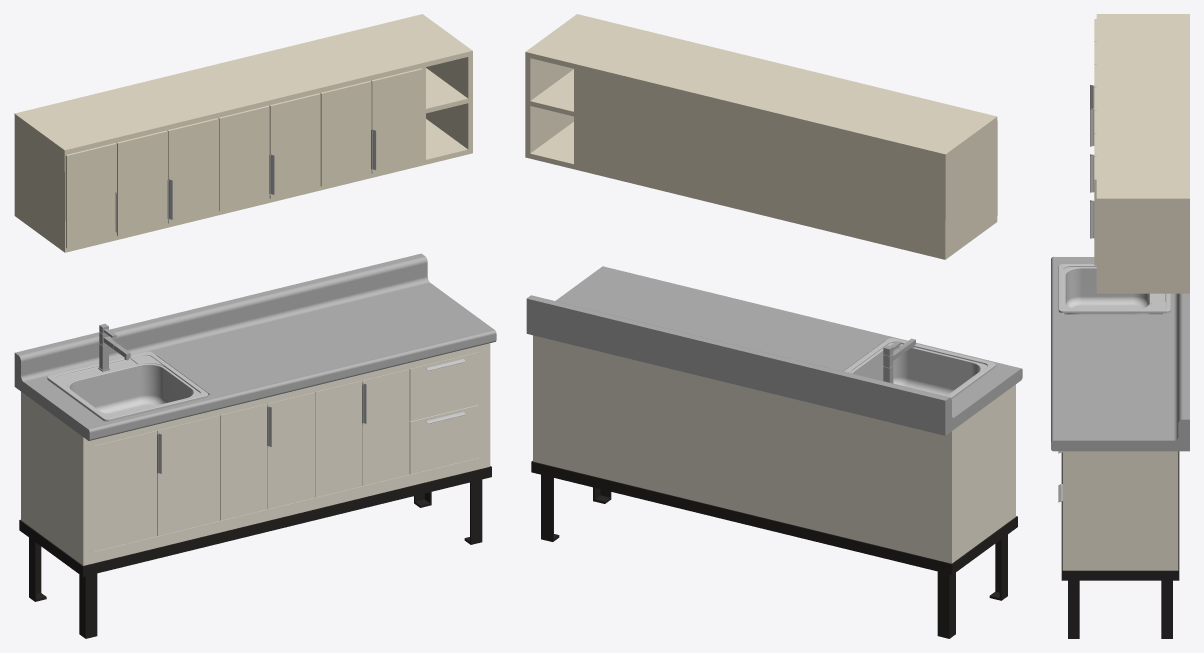
File: kitchen.glb
3 views of the same model, side by side, from view 1: azimuth 30°, elevation 25°; view 2: azimuth 150°, elevation 25°; view 3: azimuth 270°, elevation 25° (orthographic). The views are drawn at different scales.
Visible parts, largest first — view 1: Object_8, Object_4, Object_3, Object_2, Object_6, Object_9, Object_7; view 2: Object_8, Object_4, Object_3, Object_2, Object_6; view 3: Object_8, Object_3, Object_4, Object_6, Object_2, Object_9.
Part boxes in pixels (left/top/right/bottom): Object_8: left=14, top=14, right=472, bottom=379; Object_4: left=21, top=343, right=490, bottom=565; Object_3: left=14, top=253, right=496, bottom=440; Object_2: left=19, top=466, right=491, bottom=638; Object_6: left=47, top=351, right=208, bottom=421; Object_9: left=115, top=129, right=465, bottom=474; Object_7: left=98, top=323, right=130, bottom=371; Object_8: left=525, top=14, right=997, bottom=259; Object_4: left=533, top=335, right=1015, bottom=563; Object_3: left=526, top=266, right=1022, bottom=435; Object_2: left=531, top=461, right=1017, bottom=638; Object_6: left=844, top=338, right=995, bottom=398; Object_8: left=1094, top=14, right=1189, bottom=293; Object_3: left=1051, top=256, right=1189, bottom=451; Object_4: left=1062, top=313, right=1178, bottom=570; Object_6: left=1058, top=264, right=1170, bottom=314; Object_2: left=1061, top=451, right=1179, bottom=638; Object_9: left=1058, top=84, right=1094, bottom=502.
Bounding box in the file's own units: 1.88 × 2.1 × 0.5965.
